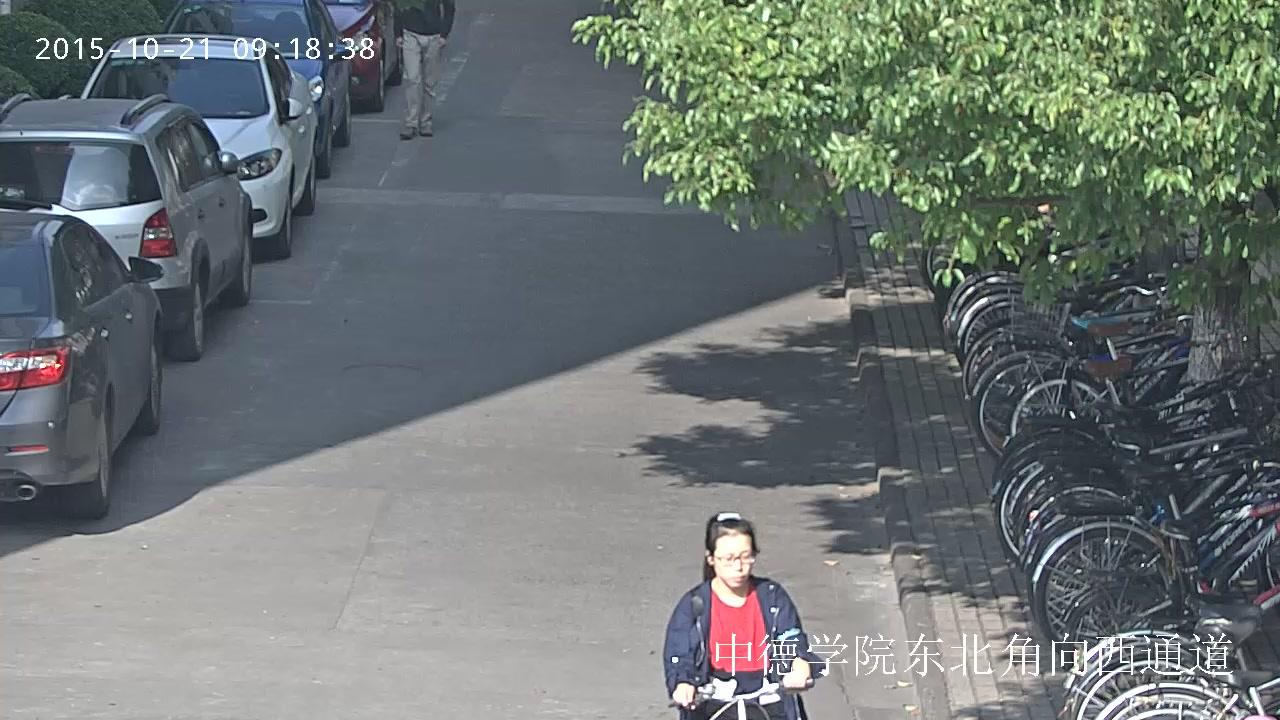face: (714, 533, 752, 587)
